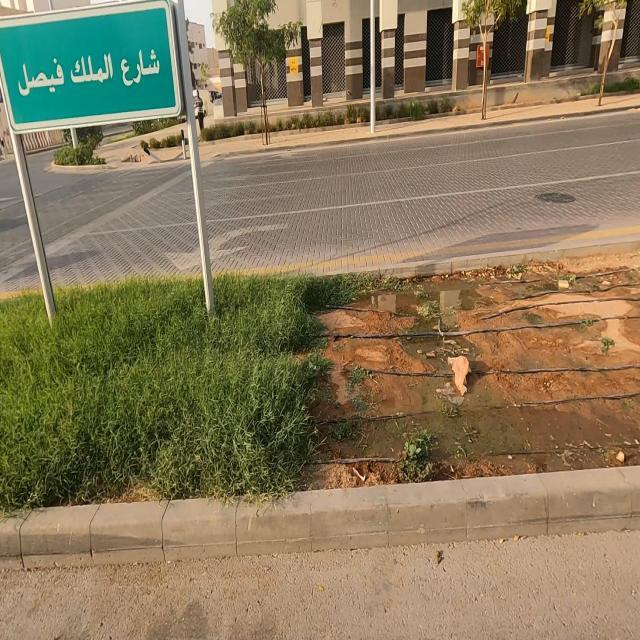debris: (243, 204, 640, 546)
